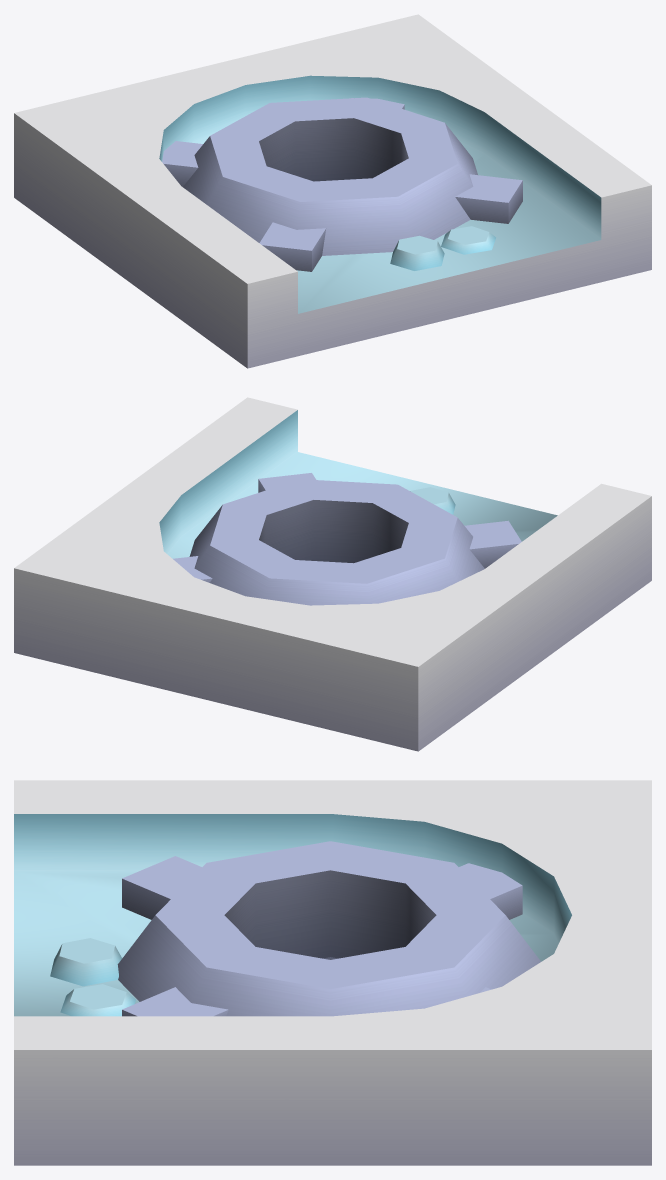
File: snow-tile-spawn-end-round.fbx
3 renders of one model, top to bottom at view 1: azimuth 30°, elevation 25°; view 2: azimuth 150°, elevation 25°; view 3: azimuth 270°, elevation 25°, orthographic. The views are drawn at different scales.
Parts seen in each view (by area): view 1: snow-tile-spawn-end-round; view 2: snow-tile-spawn-end-round; view 3: snow-tile-spawn-end-round.
Part boxes in pixels (x1,y1,x2,y2): snow-tile-spawn-end-round: (14,14,651,368); snow-tile-spawn-end-round: (14,397,651,751); snow-tile-spawn-end-round: (14,780,651,1165).
Bounding box in the file's own units: 100 × 20 × 100.
